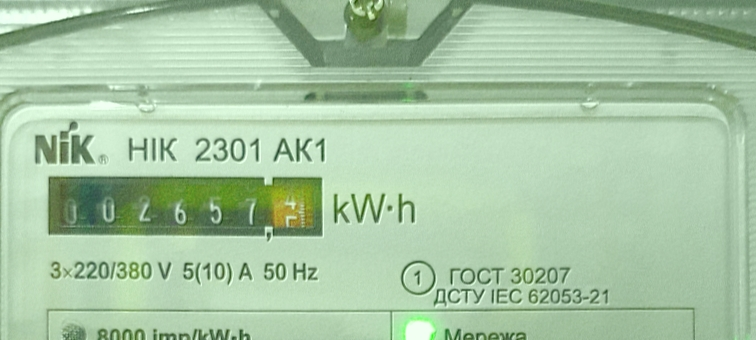0: (100, 194, 116, 225), (62, 197, 79, 226)
2: (136, 194, 153, 224)
4: (282, 185, 298, 211)
5: (207, 195, 224, 226), (283, 214, 299, 229)
6: (172, 196, 187, 226)
7: (243, 195, 259, 227)
screen: (38, 161, 334, 253)
